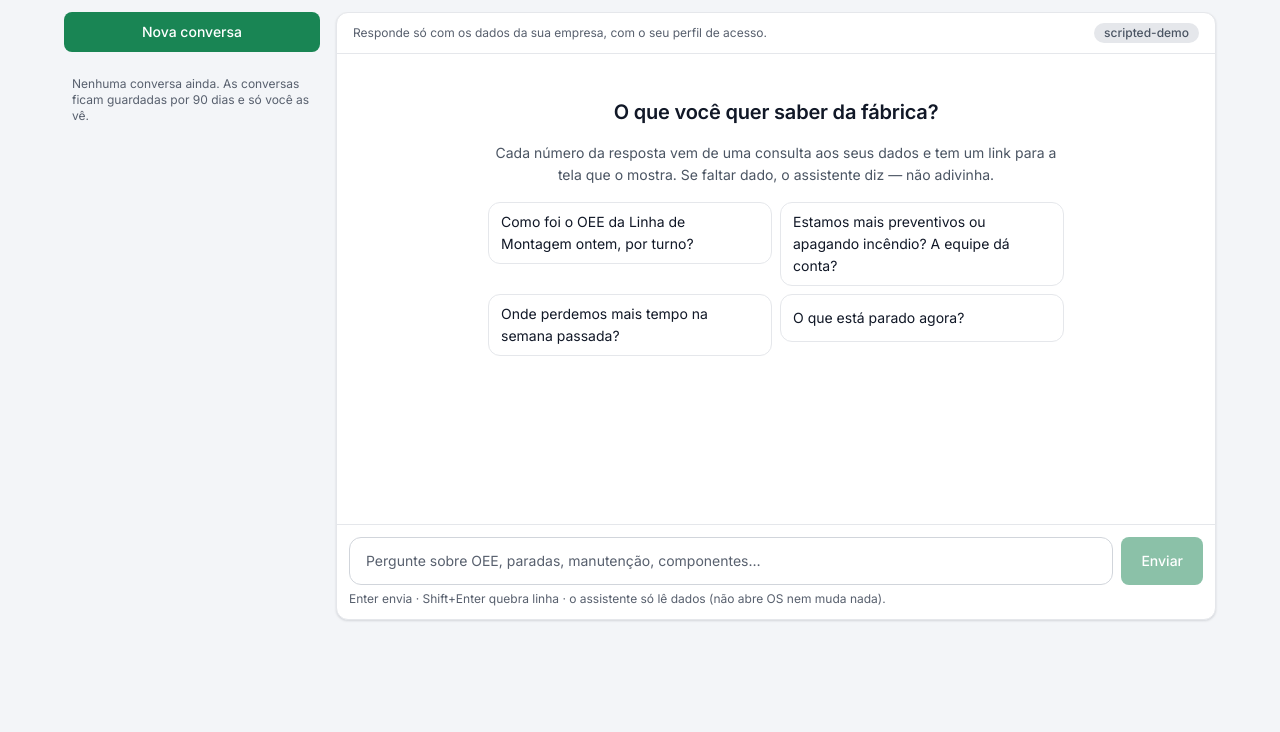
Scenario: Assistente de IA › errors are explicit (429)
Type "oi" into the text box named "Pergunta" at (731, 561), box [349, 537, 1113, 585]
Then press Enter
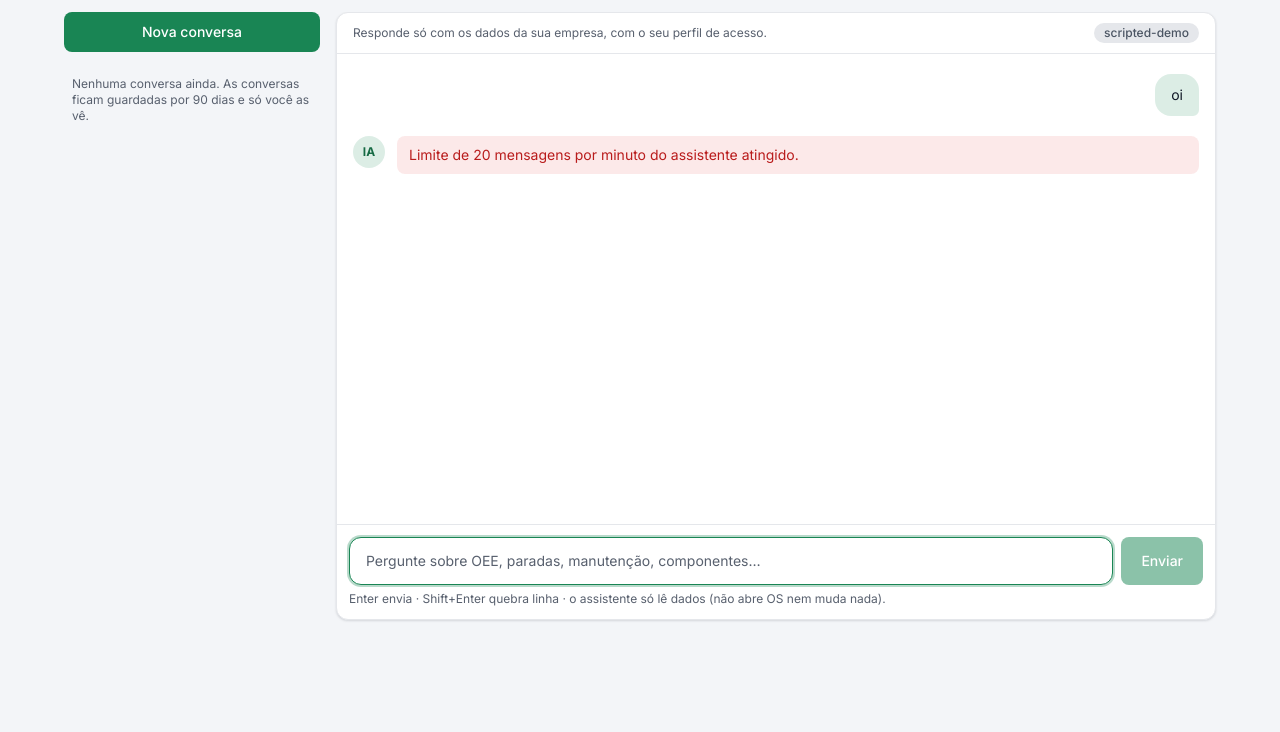
Check: the message shows "Limite de 20 mensagens", box [409, 146, 799, 163]
